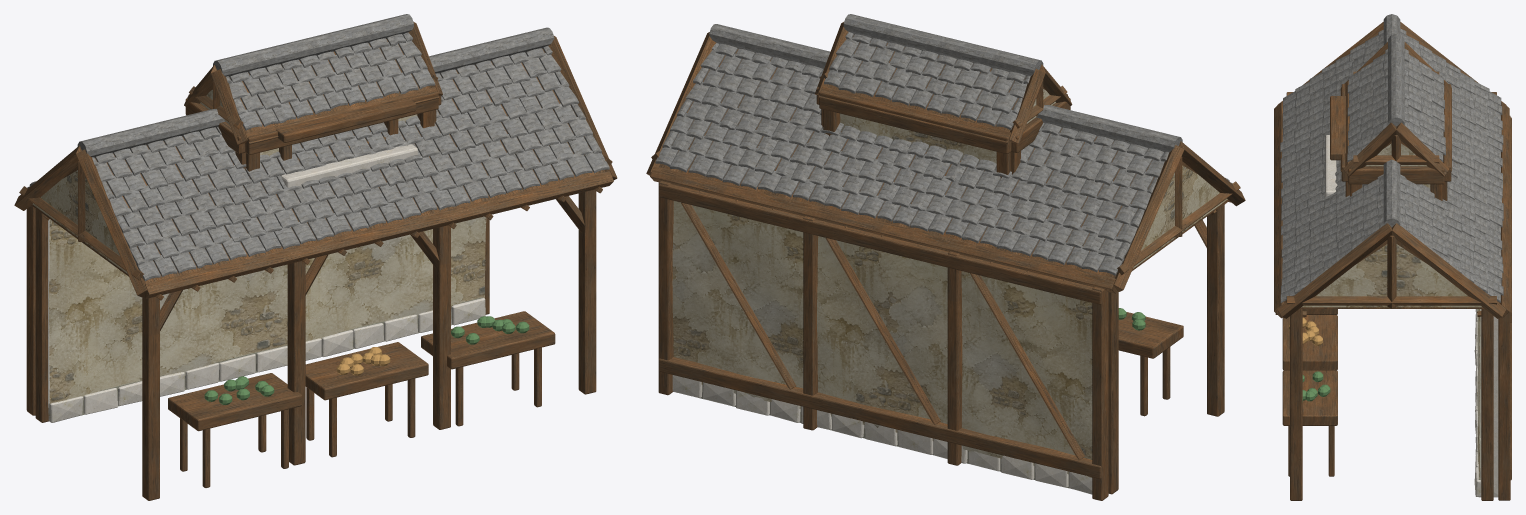
File: market_hall.glb
3 renders of one model, left to right at view 1: azimuth 30°, elevation 25°; view 2: azimuth 150°, elevation 25°; view 3: azimuth 270°, elevation 25°, orthographic. The views are drawn at different scales.
Parts seen in each view (by area): view 1: Market lower arcade roof curved overlapping solid tiles, Market backing Wavy lime plaster surface, Market arcade column, Market monitor roof curved overlapping solid tiles, Market projecting counter, Market wall grounded base, Market lower arcade roof deep eave fascia, Market lower arcade roof rounded ridge cap, Market counter legs, Market lower arcade roof sculpted barge board, Market monitor roof rounded ridge cap, Market lower arcade roof closed roof deck (+12 smaller); view 2: Market exterior backing Wavy lime plaster surface, Market lower arcade roof curved overlapping solid tiles, Market exterior binding beam, Market exterior timber uprights, Market monitor roof curved overlapping solid tiles, Market wall grounded base, Market lower arcade roof deep eave fascia, Market arcade column, Market exterior diagonal framing, Market lower arcade roof rounded ridge cap, Market lower arcade roof sculpted barge board, Raised market clerestory load-bearing header (+11 smaller); view 3: Market lower arcade roof curved overlapping solid tiles, Market monitor roof curved overlapping solid tiles, Market arcade column, Market lower arcade roof inset plaster gable, Market lower arcade roof sculpted barge board, Market projecting counter, Market lower arcade roof deep eave fascia, Market exterior timber uprights, Market monitor roof sculpted barge board, Raised market clerestory load-bearing header, Market lower arcade roof gable tie beam, Market lower arcade roof rounded ridge cap (+17 smaller).
Part boxes in pixels (box(x1,y1,x2,y2)): Market lower arcade roof curved overlapping solid tiles: box(27, 46, 609, 281); Market backing Wavy lime plaster surface: box(48, 216, 486, 407); Market arcade column: box(35, 190, 596, 500); Market monitor roof curved overlapping solid tiles: box(226, 32, 435, 130); Market projecting counter: box(168, 311, 555, 431); Market wall grounded base: box(48, 297, 485, 422); Market lower arcade roof deep eave fascia: box(28, 170, 613, 298); Market lower arcade roof rounded ridge cap: box(77, 27, 554, 157); Market counter legs: box(180, 347, 541, 487); Market lower arcade roof sculpted barge board: box(14, 36, 617, 297); Market monitor roof rounded ridge cap: box(213, 14, 413, 76); Market lower arcade roof closed roof deck: box(31, 48, 604, 283); Market exterior backing Wavy lime plaster surface: box(672, 201, 1092, 477); Market lower arcade roof curved overlapping solid tiles: box(655, 43, 1232, 275); Market exterior binding beam: box(658, 184, 1101, 478); Market exterior timber uprights: box(658, 181, 1108, 500); Market monitor roof curved overlapping solid tiles: box(824, 32, 1030, 130); Market wall grounded base: box(672, 375, 1092, 494); Market lower arcade roof deep eave fascia: box(650, 166, 1231, 293); Market arcade column: box(1108, 204, 1224, 494); Market exterior diagonal framing: box(681, 202, 1085, 459); Market lower arcade roof rounded ridge cap: box(709, 24, 1182, 152); Market lower arcade roof sculpted barge board: box(646, 32, 1245, 291); Raised market clerestory load-bearing header: box(816, 87, 1070, 153); Market lower arcade roof curved overlapping solid tiles: box(1280, 28, 1503, 302); Market monitor roof curved overlapping solid tiles: box(1347, 49, 1445, 162); Market arcade column: box(1290, 309, 1493, 500); Market lower arcade roof inset plaster gable: box(1301, 244, 1481, 307); Market lower arcade roof sculpted barge board: box(1277, 22, 1506, 318); Market projecting counter: box(1282, 309, 1337, 425); Market lower arcade roof deep eave fascia: box(1274, 102, 1509, 318); Market exterior timber uprights: box(1498, 116, 1510, 500); Market monitor roof sculpted barge board: box(1343, 42, 1449, 176); Raised market clerestory load-bearing header: box(1341, 84, 1451, 184); Market lower arcade roof gable tie beam: box(1286, 92, 1496, 305); Market lower arcade roof rounded ridge cap: box(1383, 14, 1400, 227).
Size of the model in its own units: 6.76 by 4.93 by 3.23.
12 materials, 7 textured.
